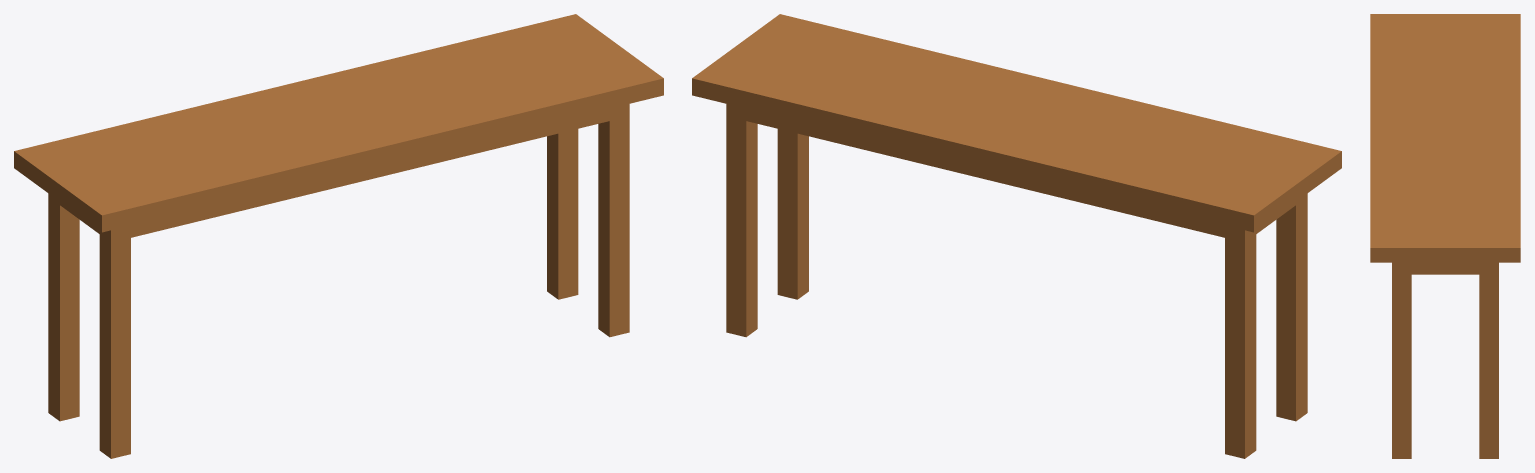
Rendered from school-art-narrow-console-table.glb.
3 views of the same model, side by side, from view 1: azimuth 30°, elevation 25°; view 2: azimuth 150°, elevation 25°; view 3: azimuth 270°, elevation 25° (orthographic). The views are drawn at different scales.
Visible parts, largest first — view 1: merged-Thin rectangular timber console top; view 2: merged-Thin rectangular timber console top; view 3: merged-Thin rectangular timber console top.
Boxes of the visible parts, left/top/right/bottom form: merged-Thin rectangular timber console top: left=14, top=14, right=663, bottom=458; merged-Thin rectangular timber console top: left=692, top=14, right=1341, bottom=458; merged-Thin rectangular timber console top: left=1370, top=14, right=1520, bottom=458.
Size of the model in its own units: 1.55 by 0.68 by 0.42.
